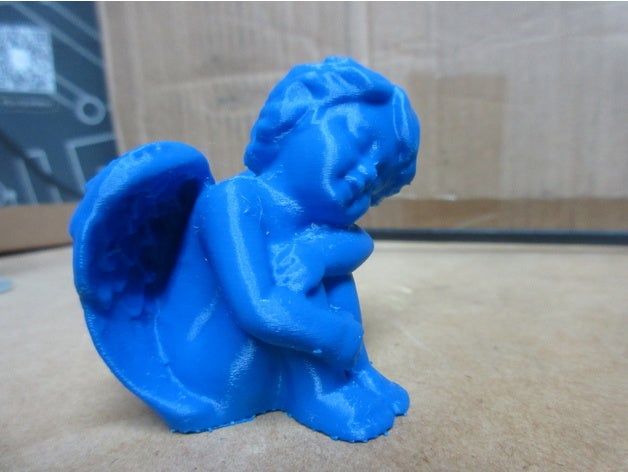Good: (53, 52, 430, 448)
